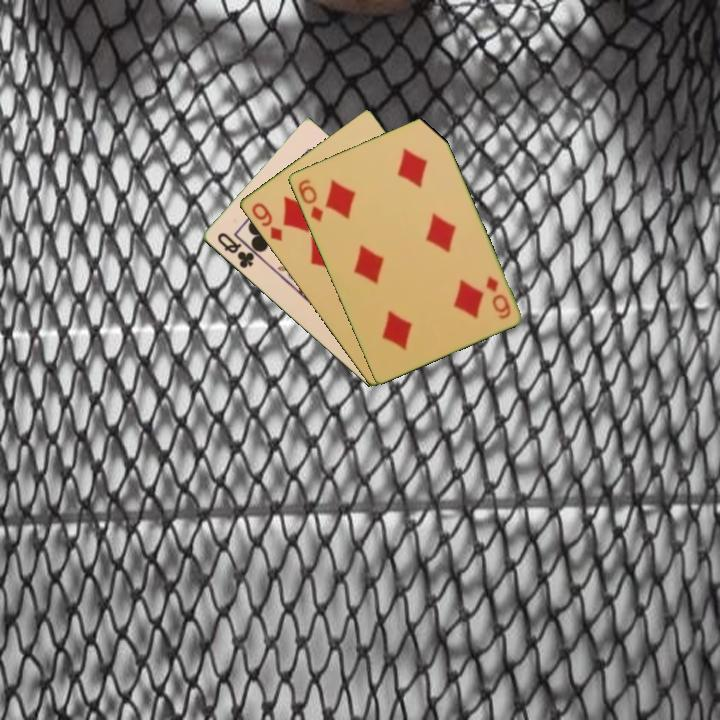6d: (294, 176, 326, 225), (482, 272, 513, 322)
9d: (248, 199, 285, 244)
Qc: (213, 229, 257, 271)
